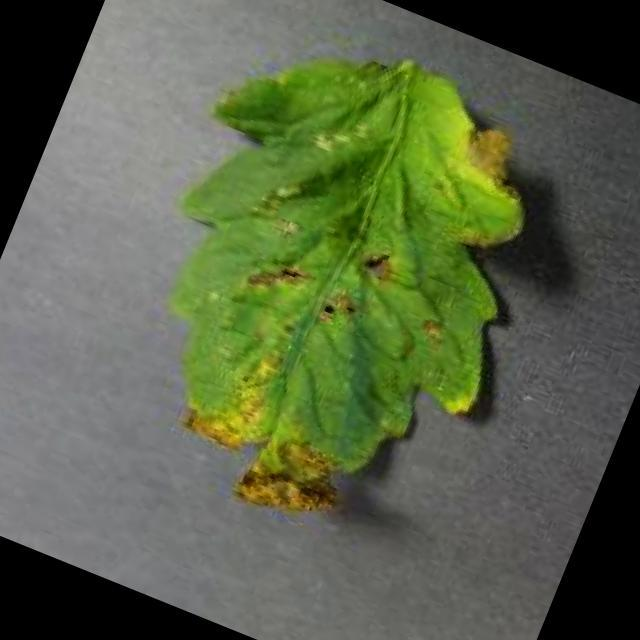Tomato bacterial spot leaf: (65, 0, 604, 584)
